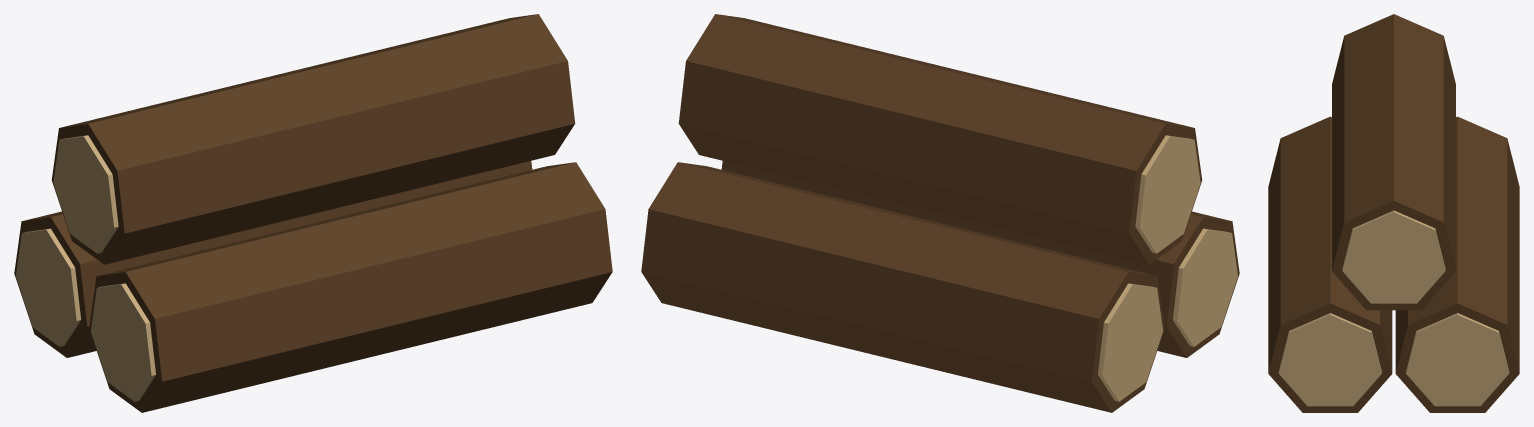
File: barrierA.glb
3 views of the same model, side by side, from view 1: azimuth 30°, elevation 25°; view 2: azimuth 150°, elevation 25°; view 3: azimuth 270°, elevation 25° (orthographic). The views are drawn at different scales.
Visible parts, largest first — view 1: pineValley-barrierA; view 2: pineValley-barrierA; view 3: pineValley-barrierA.
Boxes of the visible parts, x1,y1,x2,y2 form: pineValley-barrierA: [14, 14, 612, 412]; pineValley-barrierA: [641, 14, 1239, 412]; pineValley-barrierA: [1268, 14, 1519, 412].
Bounding box in the file's own units: 0.255 × 0.1324 × 0.1422.
